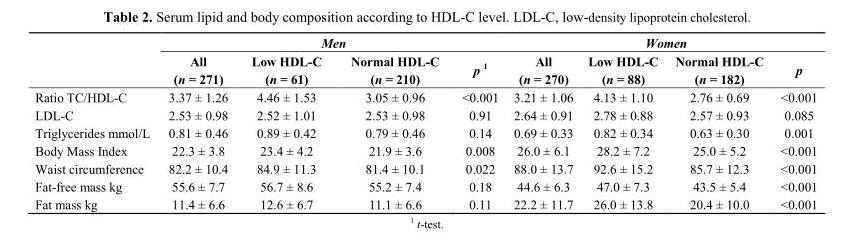table: (34, 35, 816, 211)
table column: (34, 35, 158, 211), (335, 35, 449, 211), (666, 35, 771, 211), (239, 35, 335, 211), (580, 35, 666, 211), (158, 35, 239, 211), (505, 35, 580, 211), (449, 35, 505, 211), (771, 35, 816, 211)
table column header: (34, 35, 816, 87)
table row: (34, 51, 816, 87), (34, 87, 816, 105), (34, 105, 816, 123), (34, 123, 816, 141), (34, 141, 816, 159), (34, 159, 816, 177), (34, 177, 816, 194), (34, 194, 816, 211), (34, 35, 816, 51)
table spanning cell: (158, 35, 505, 51), (505, 35, 816, 51)
